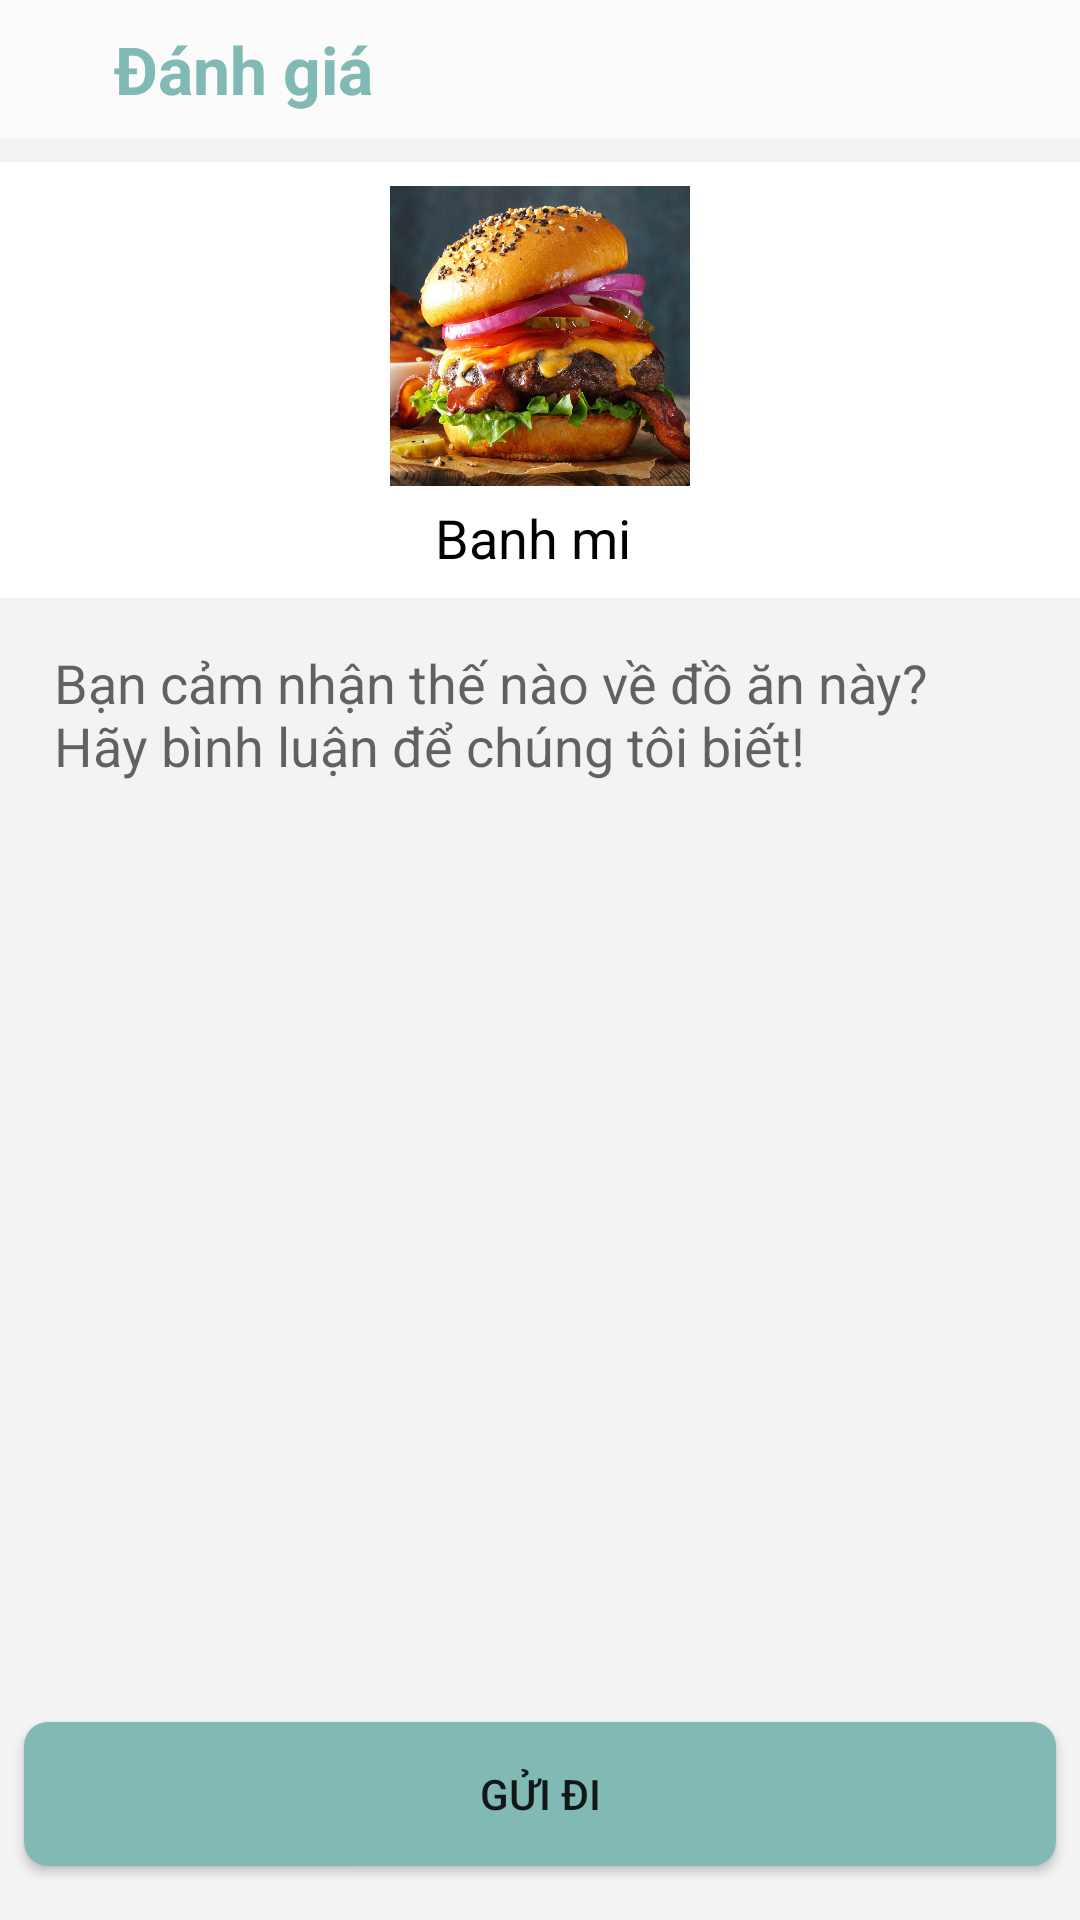

Named icons in this screenshot (1080x1920) and their bounding boxes, (x1, y1, x2, y2):
burger: (390, 186, 690, 486)
